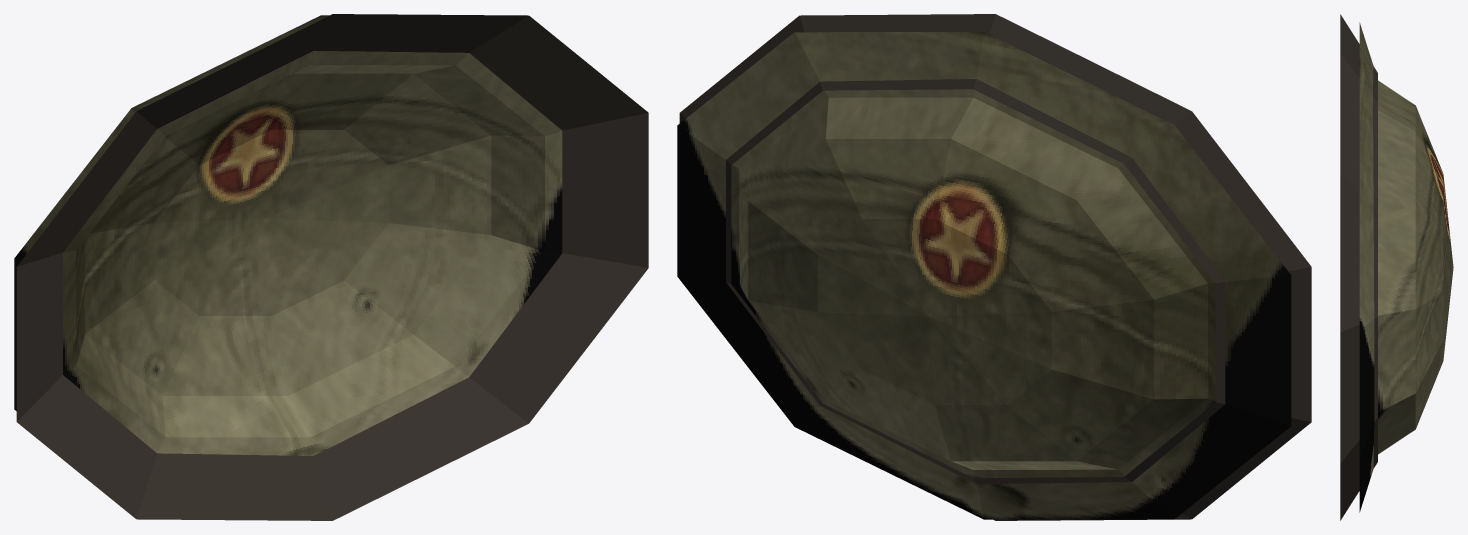
File: cap_cloth.glb
3 renders of one model, left to right at view 1: azimuth 30°, elevation 25°; view 2: azimuth 150°, elevation 25°; view 3: azimuth 270°, elevation 25°, orthographic. The views are drawn at different scales.
Parts seen in each view (by area): view 1: cap_cloth, cap_cloth_band; view 2: cap_cloth, cap_cloth_band; view 3: cap_cloth, cap_cloth_band.
Boxes of the visible parts, bbox=[...] form: cap_cloth: bbox=[14, 15, 562, 455]; cap_cloth_band: bbox=[16, 14, 648, 520]; cap_cloth: bbox=[677, 32, 1291, 519]; cap_cloth_band: bbox=[679, 14, 1311, 520]; cap_cloth: bbox=[1359, 22, 1453, 512]; cap_cloth_band: bbox=[1340, 14, 1377, 520].
Bounding box in the file's own units: 0.3184 × 0.244 × 0.0584.
2 materials, 1 textured.
